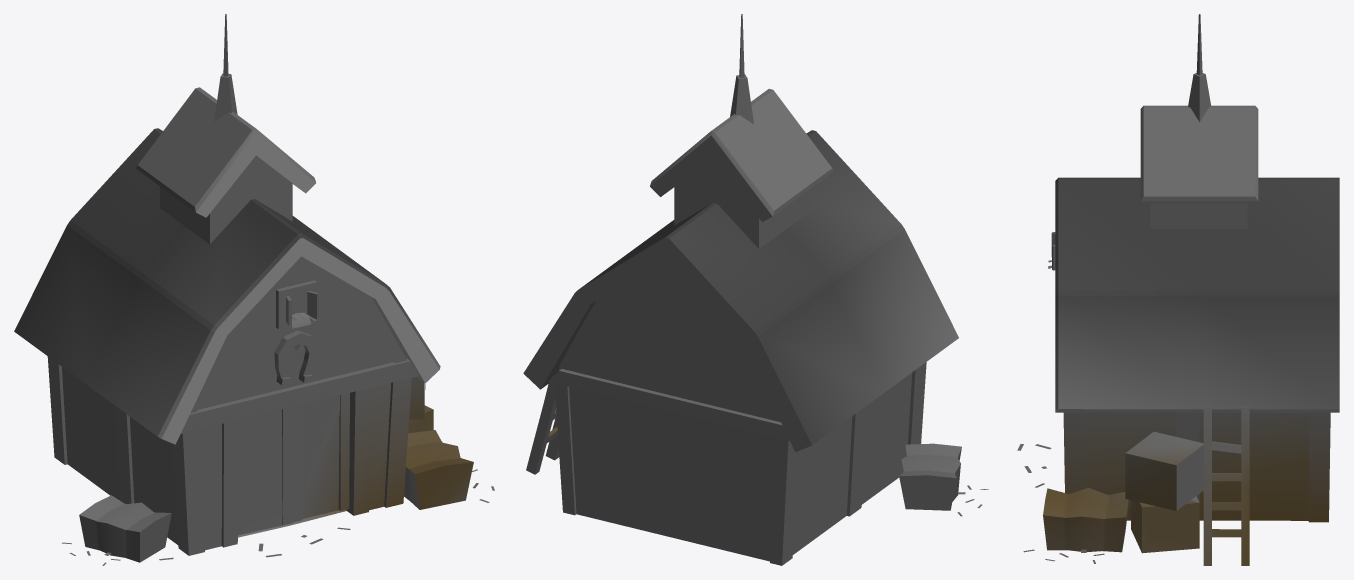
Rendered from Barn.fbx.
The picture shows the model from 3 angles, left to right: view 1: azimuth 30°, elevation 25°; view 2: azimuth 150°, elevation 25°; view 3: azimuth 270°, elevation 25°; orthographic projection. The views are drawn at different scales.
Parts seen in each view (by area): view 1: Barn; view 2: Barn; view 3: Barn.
Part boxes in pixels (x1,y1,x2,y2): Barn: (14, 14, 494, 565); Barn: (523, 14, 988, 565); Barn: (1017, 14, 1339, 565).
Bounding box in the file's own units: 17.64 × 20.39 × 12.81.
